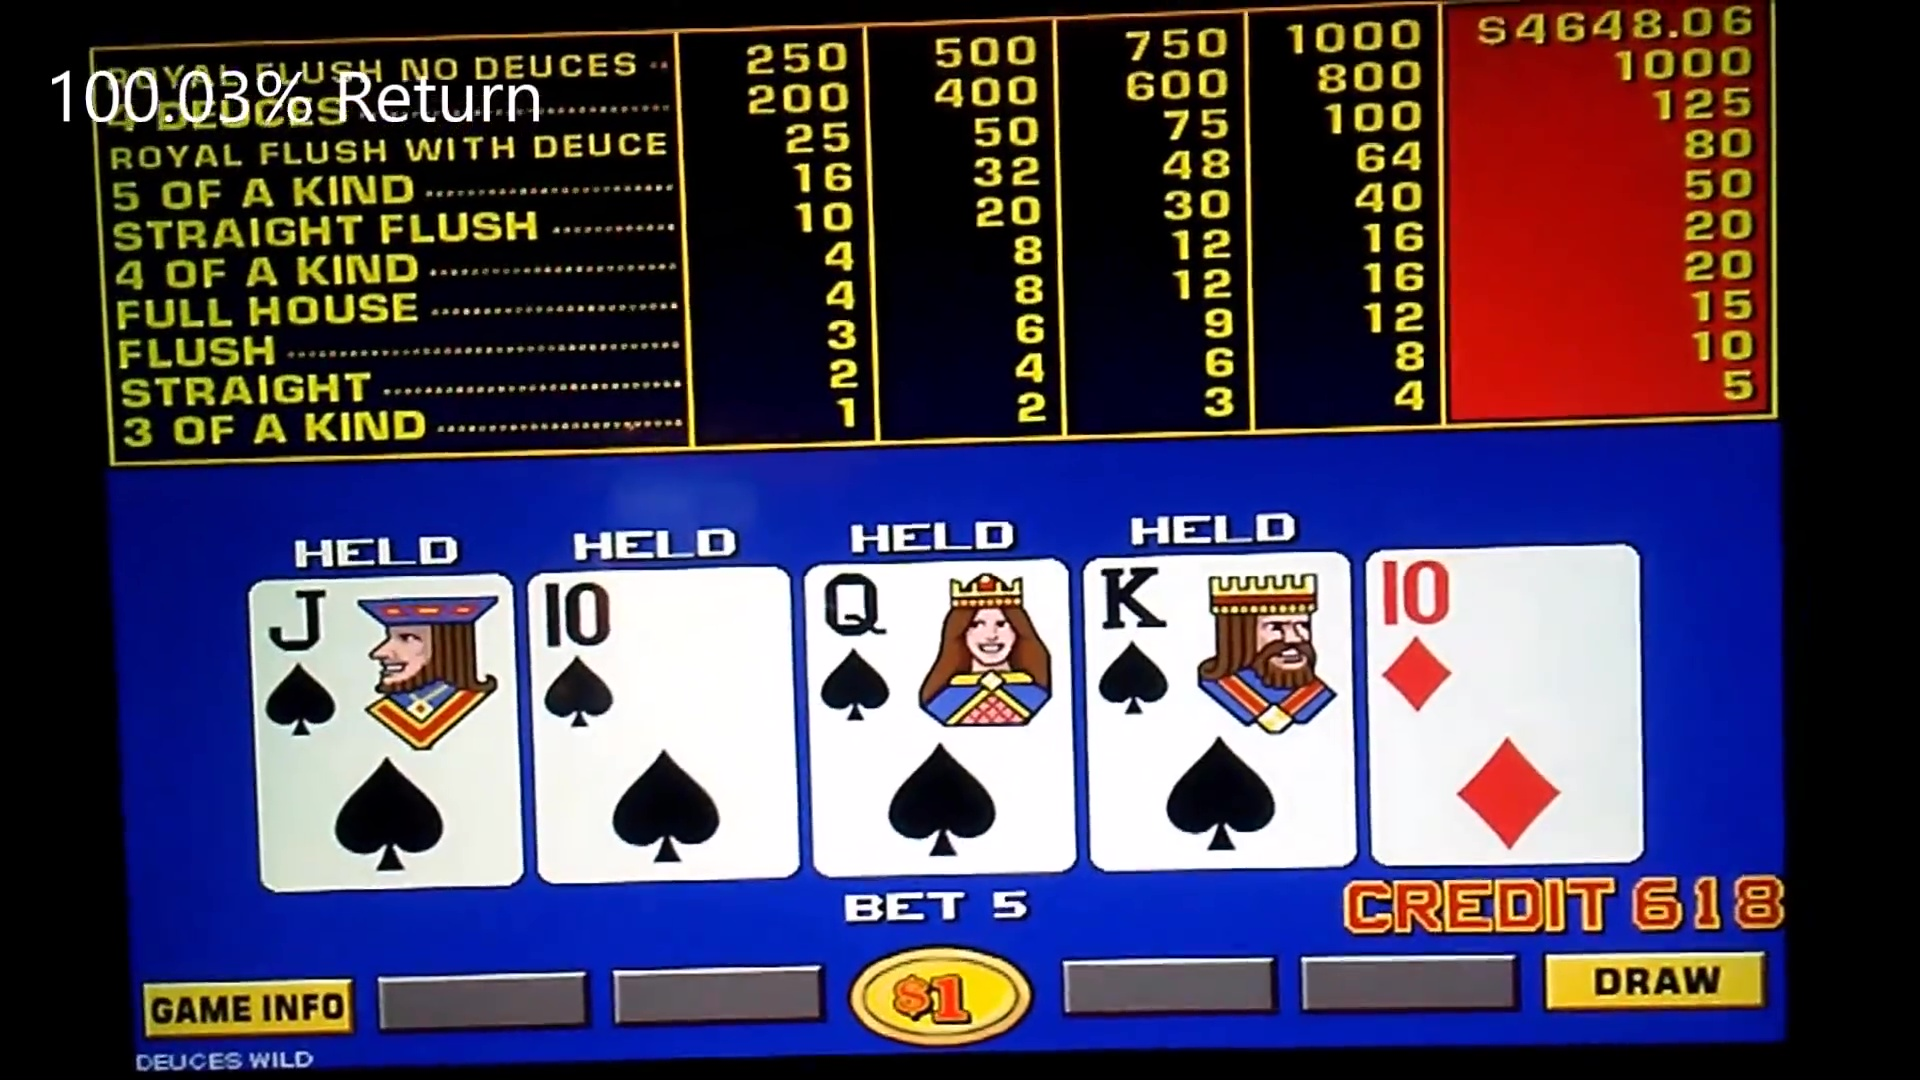DT: (1373, 546, 1636, 705)
SJ: (255, 578, 510, 731)
SK: (1095, 550, 1353, 711)
SQ: (814, 567, 1069, 723)
ST: (538, 571, 795, 727)
